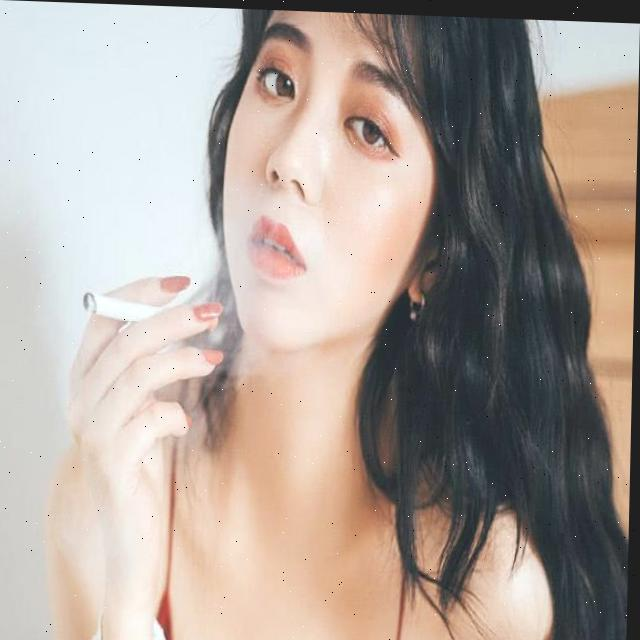cigarette: (83, 290, 162, 330)
